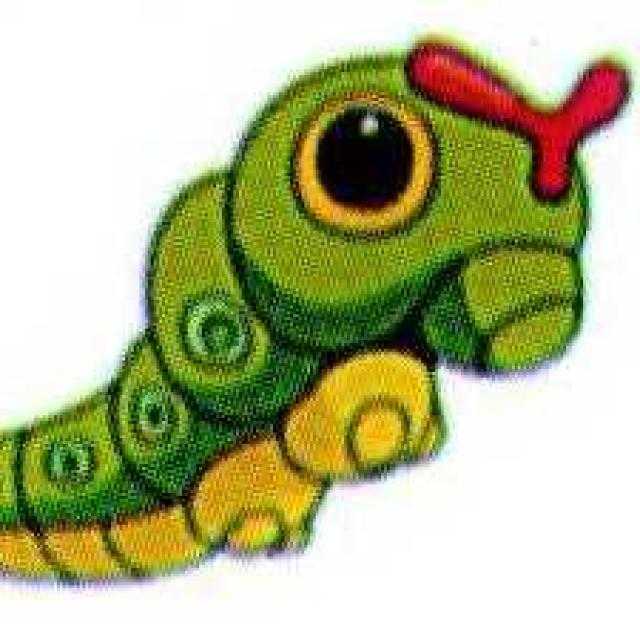Caterpie: (0, 32, 630, 585)
